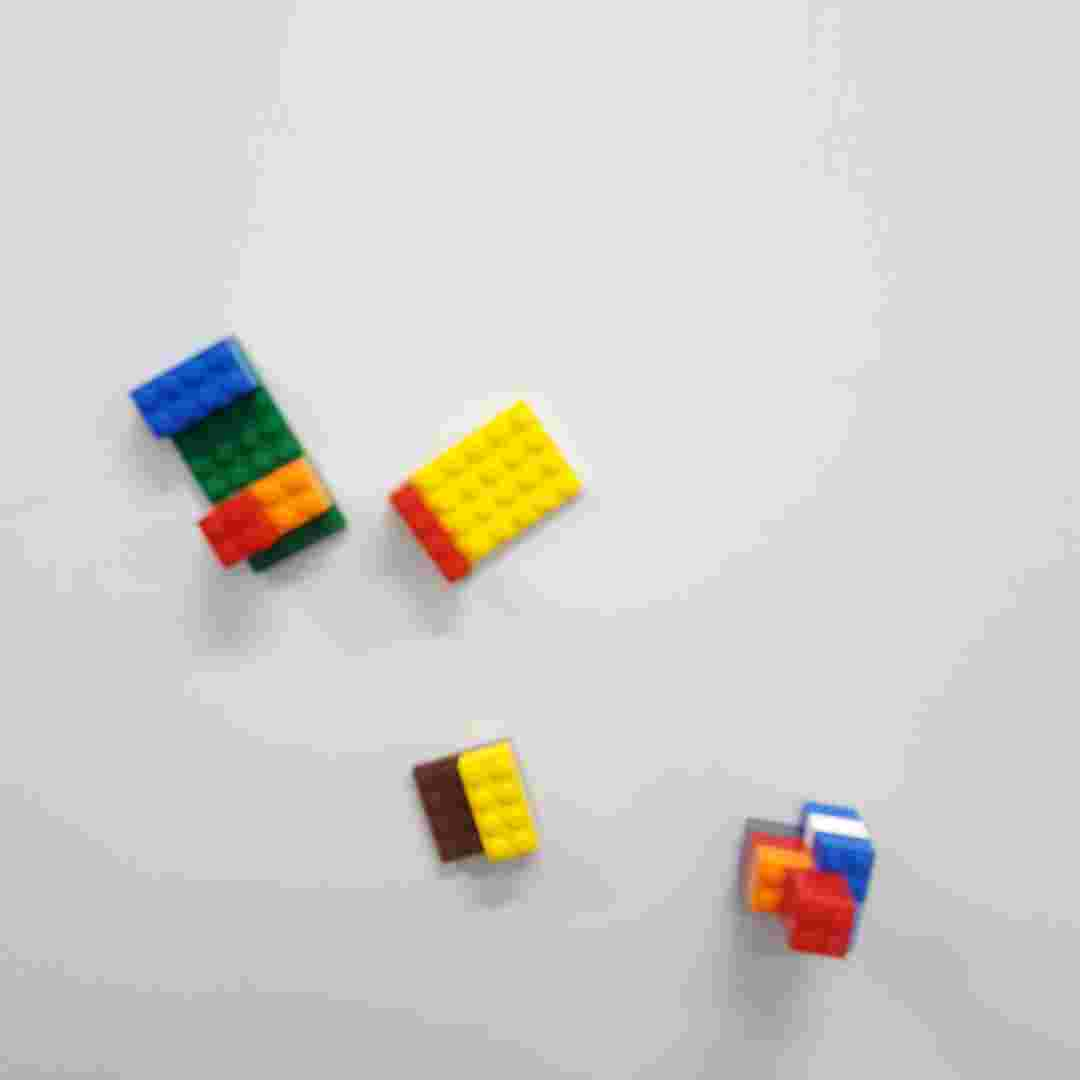LEGO: (123, 333, 351, 581), (382, 401, 592, 590), (738, 797, 869, 961), (405, 739, 544, 875)
